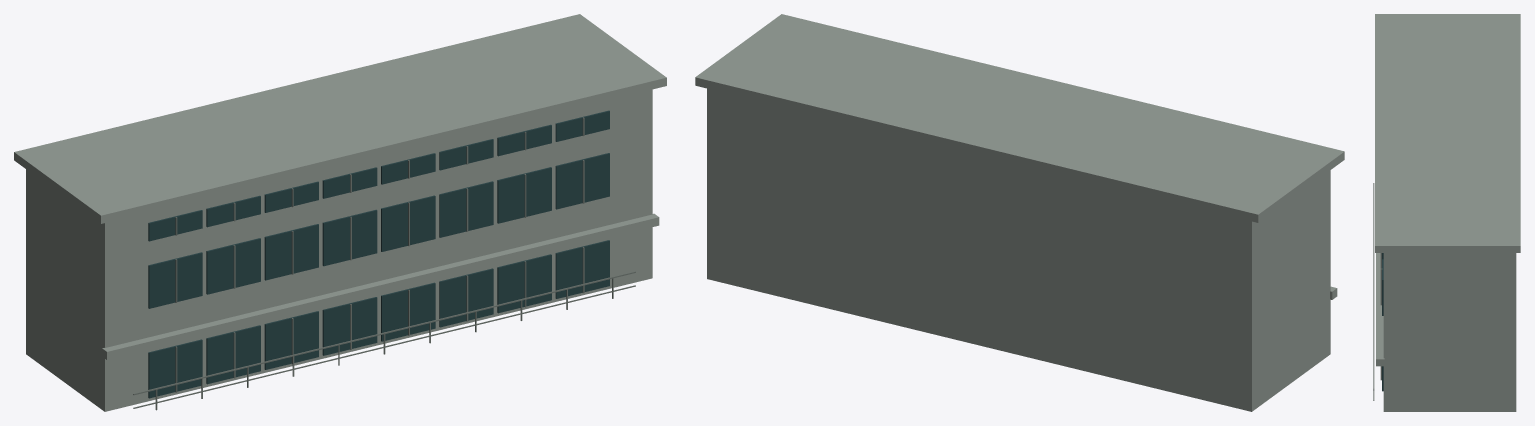
File: west-building.glb
3 renders of one model, left to right at view 1: azimuth 30°, elevation 25°; view 2: azimuth 150°, elevation 25°; view 3: azimuth 270°, elevation 25°, orthographic. The views are drawn at different scales.
Parts seen in each view (by area): view 1: Concrete walls, Window glass, Window frames; view 2: Concrete walls; view 3: Concrete walls, Window frames, Window glass.
Boxes of the visible parts, box(x1,y1,x2,y2) form: Concrete walls: box(14, 14, 666, 411); Window glass: box(148, 110, 609, 398); Window frames: box(133, 117, 635, 410); Concrete walls: box(695, 14, 1344, 411); Concrete walls: box(1375, 14, 1520, 411); Window frames: box(1373, 183, 1382, 400); Window glass: box(1382, 253, 1383, 391).
Bounding box in the file's own units: 24.8 × 8.67 × 6.68.
